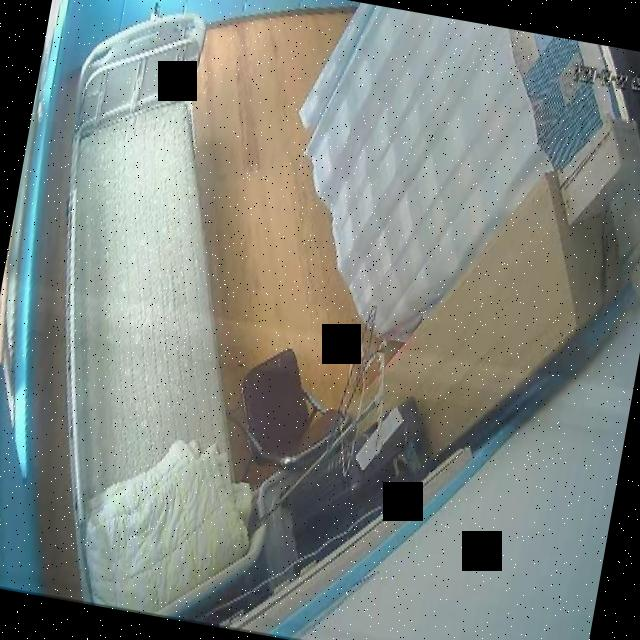bed: (0, 0, 333, 625)
